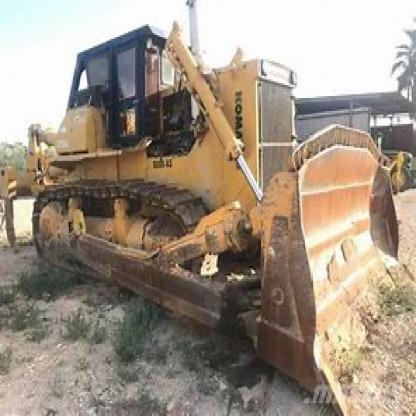bull_dozer/loader/grader: (23, 19, 406, 396)
